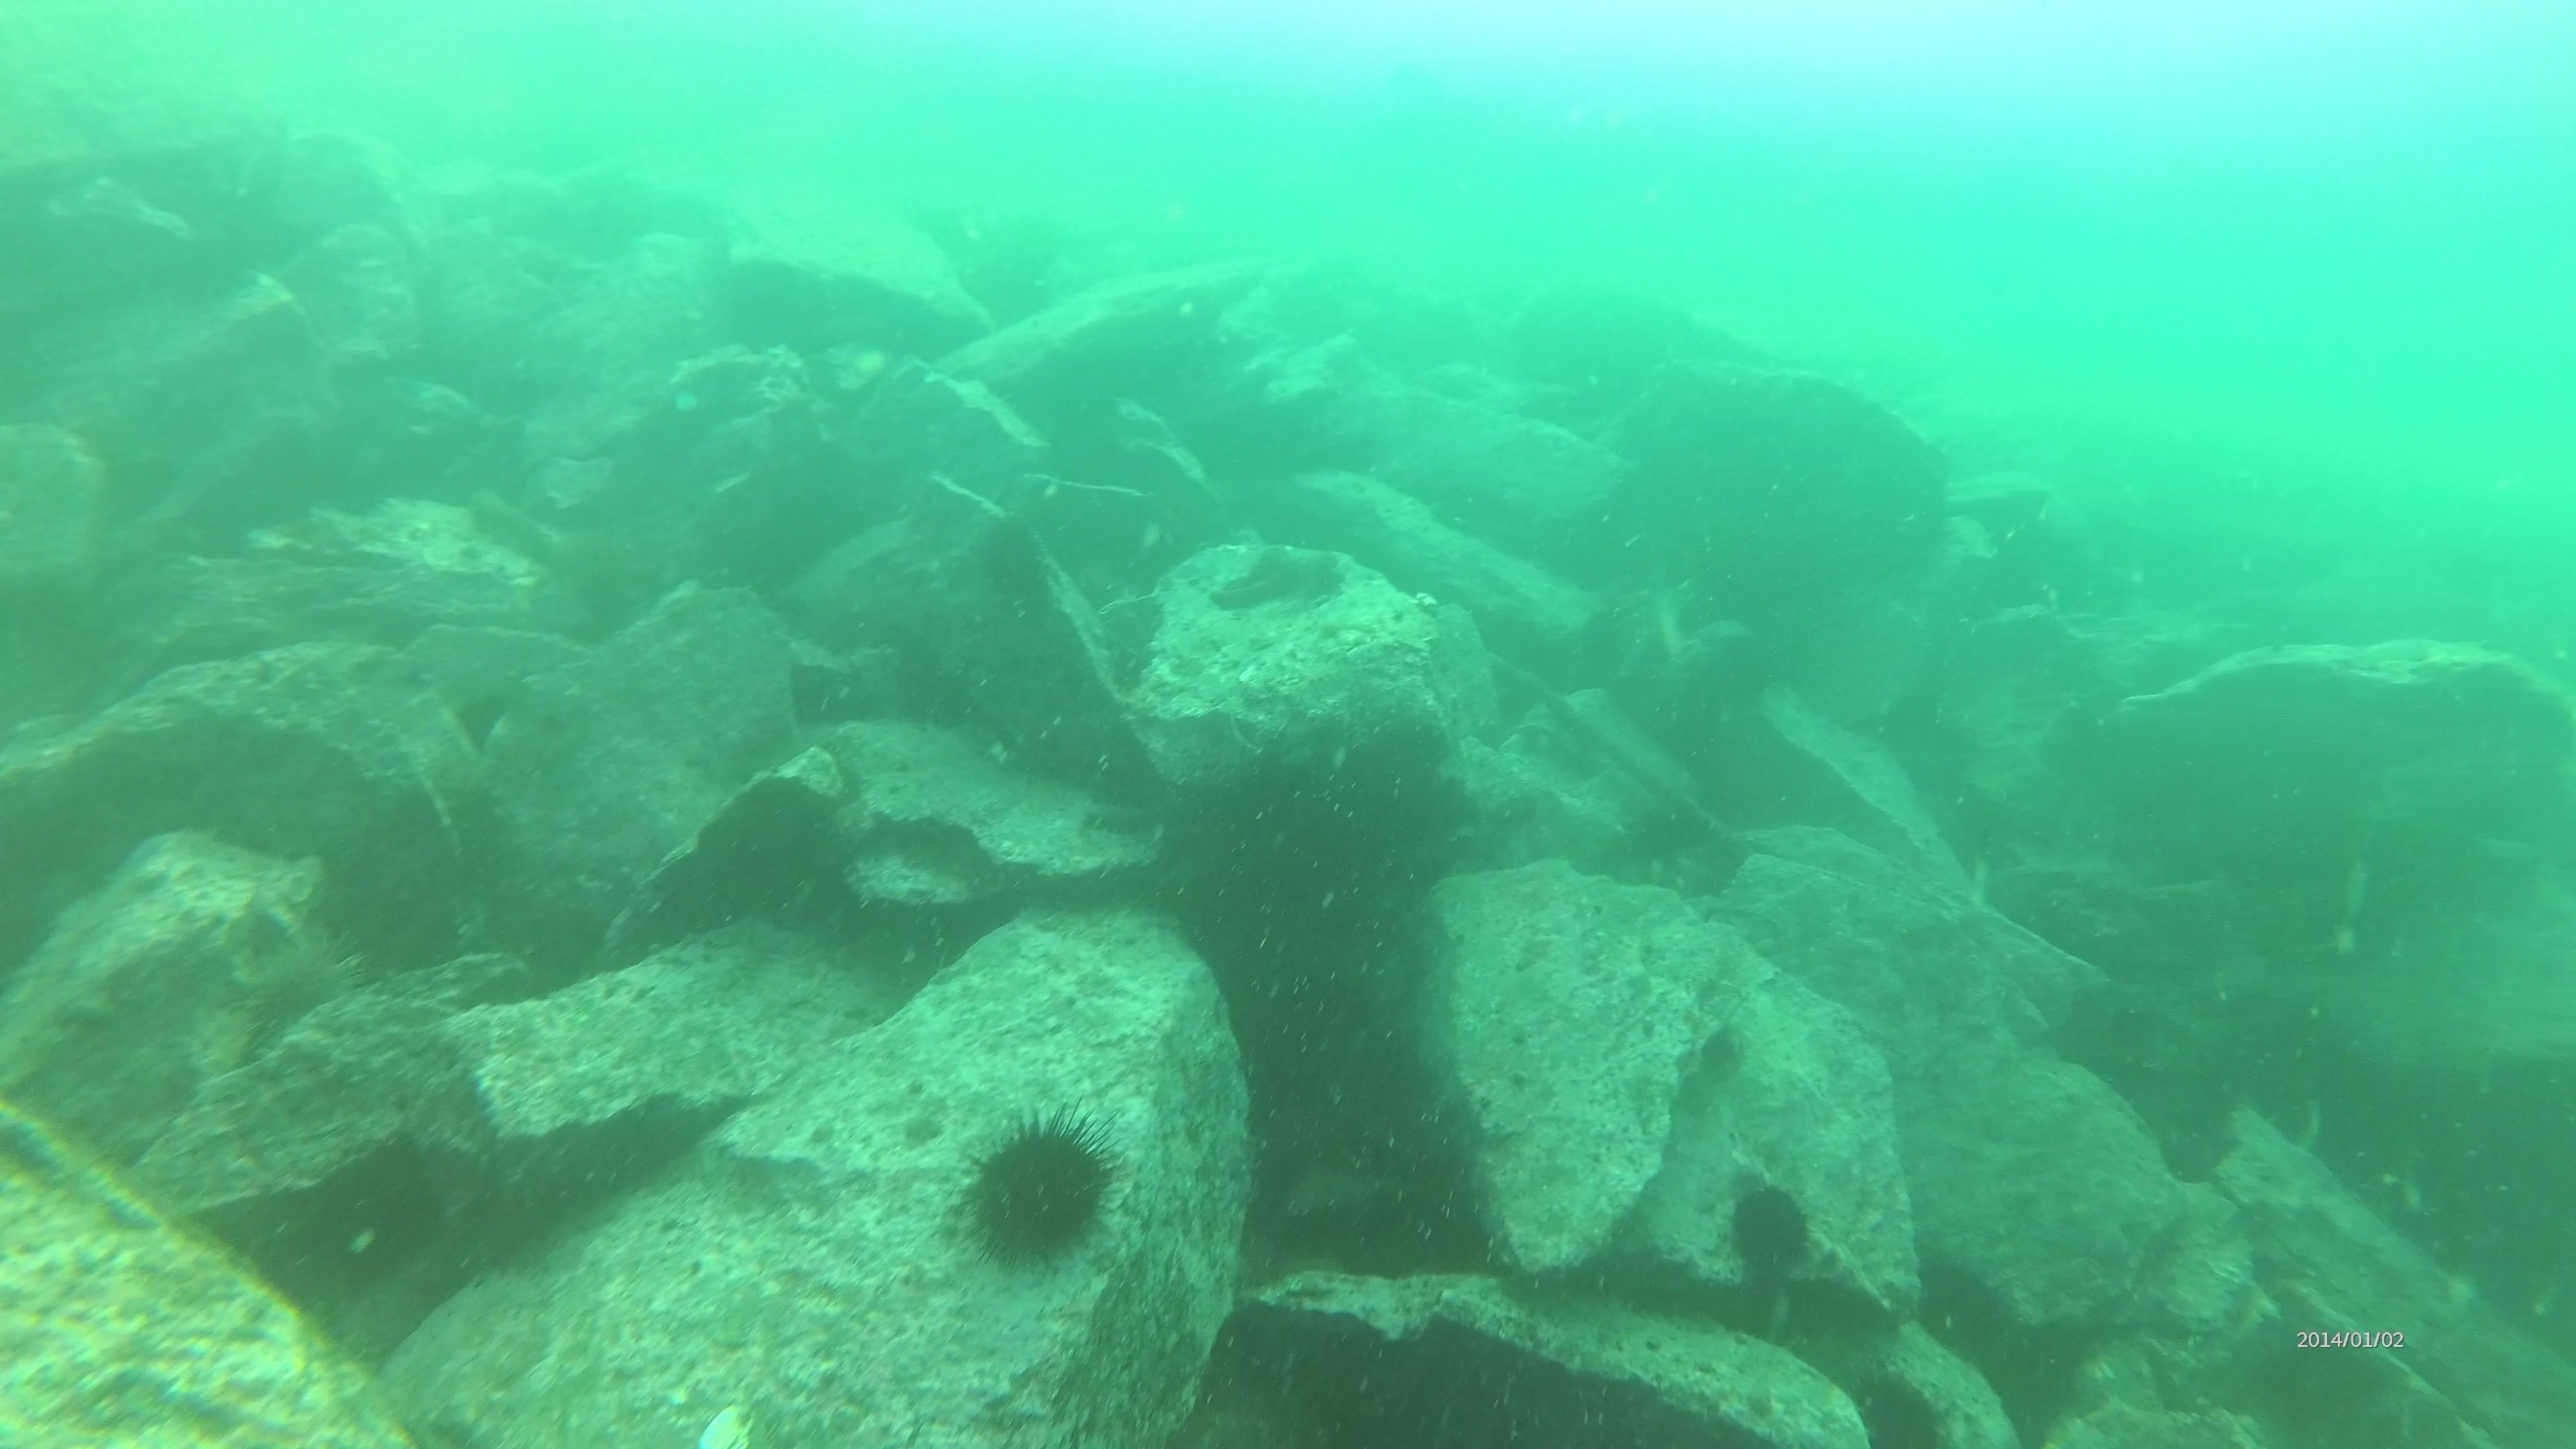echinus: (950, 1104, 1123, 1274), (225, 920, 372, 1039), (1716, 1173, 1822, 1290)
